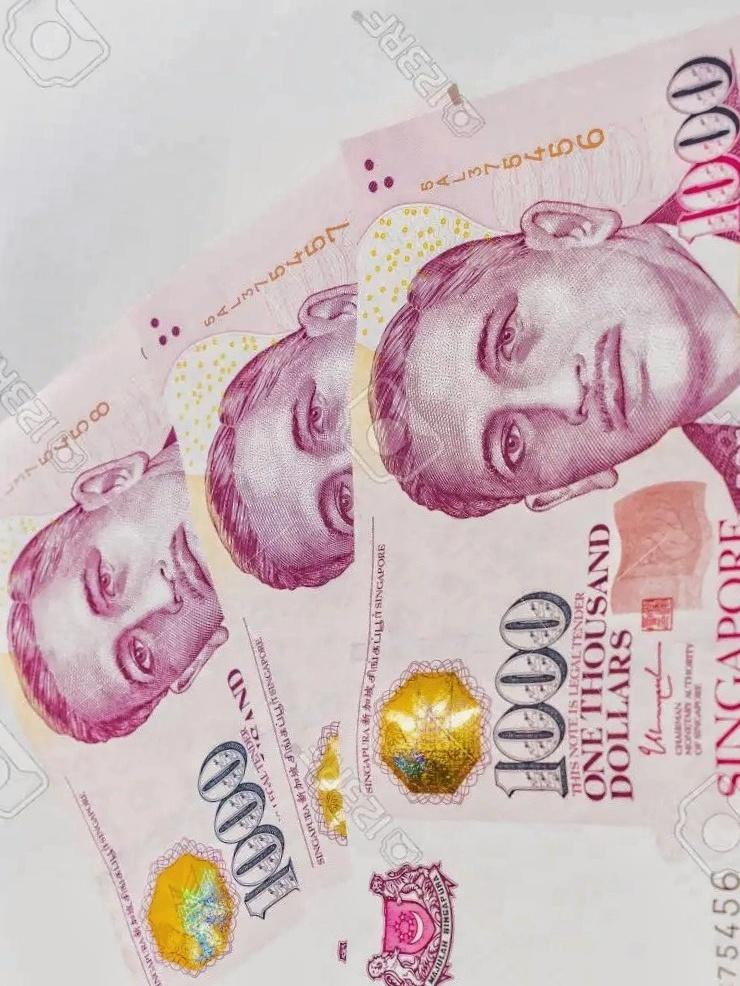1000SingaporeDollar: (354, 56, 740, 986)
